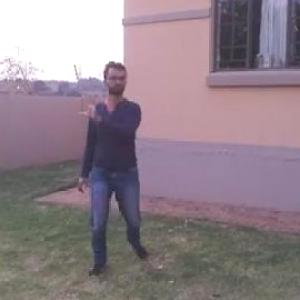follow_hand: (78, 88, 101, 120)
